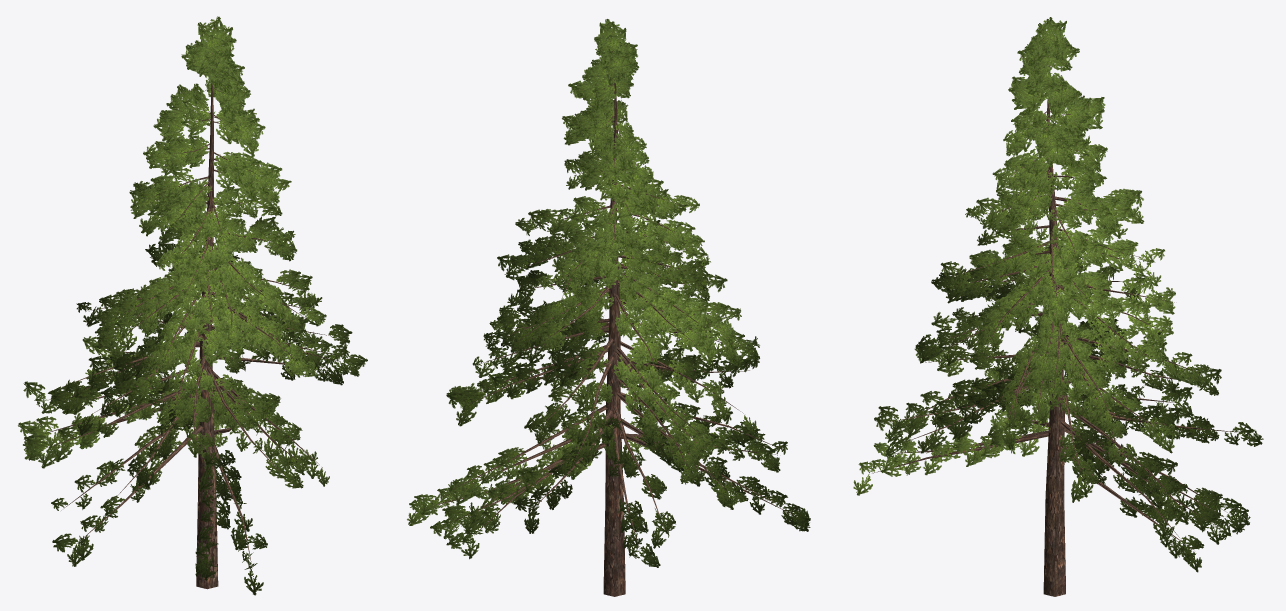
Rendered from eztree-pine.glb.
3 views of the same model, side by side, from view 1: azimuth 30°, elevation 25°; view 2: azimuth 150°, elevation 25°; view 3: azimuth 270°, elevation 25° (orthographic). The views are drawn at different scales.
Parts seen in each view (by area): view 1: LOD0; view 2: LOD0; view 3: LOD0.
Boxes of the visible parts, <box> form: LOD0: <box>18,16,367,595</box>; LOD0: <box>407,19,810,596</box>; LOD0: <box>853,17,1263,596</box>.
Size of what is drawn, in the model's own units: 9.73 by 16 by 10.65.
Materials: 2 (2 with a texture image).
